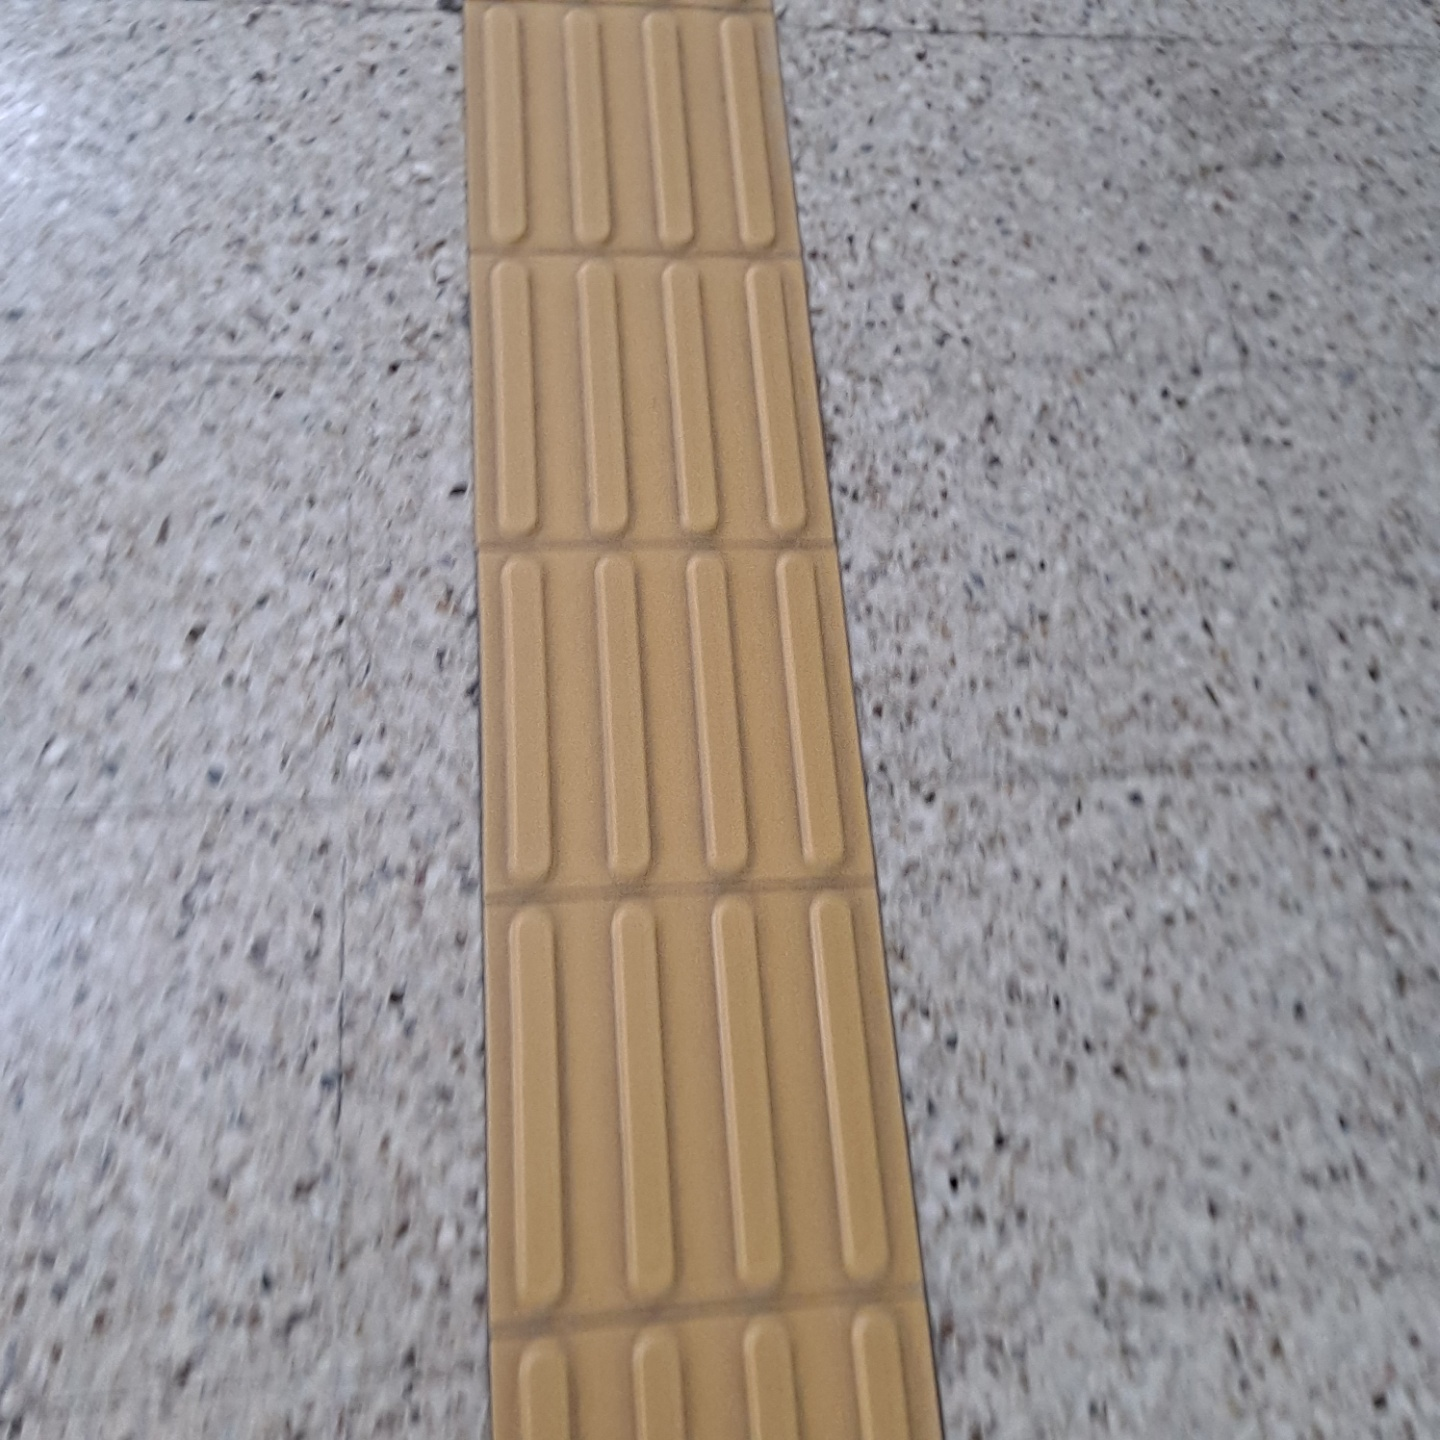guideBlock: (514, 918, 915, 1305), (483, 555, 876, 906), (475, 255, 851, 550), (460, 9, 769, 258), (481, 1317, 963, 1440)
